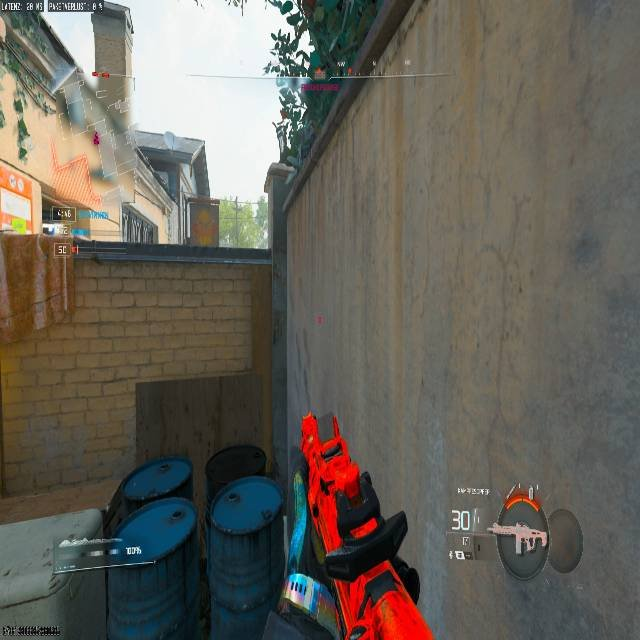player: (96, 412, 435, 639), (263, 19, 318, 175)
